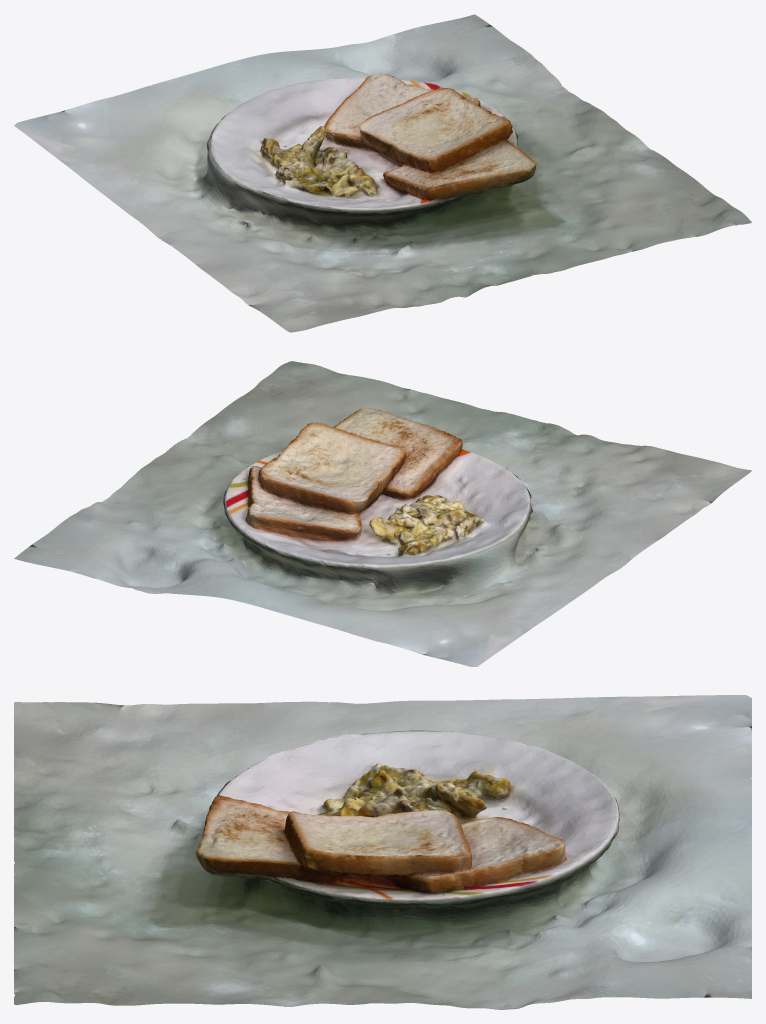
File: breakfast.glb
3 views of the same model, one above another, from view 1: azimuth 30°, elevation 25°; view 2: azimuth 150°, elevation 25°; view 3: azimuth 270°, elevation 25° (orthographic). The views are drawn at different scales.
Bounding box in the file's own units: 1.16 × 0.1561 × 1.21.
Materials: 1 (1 with a texture image).
